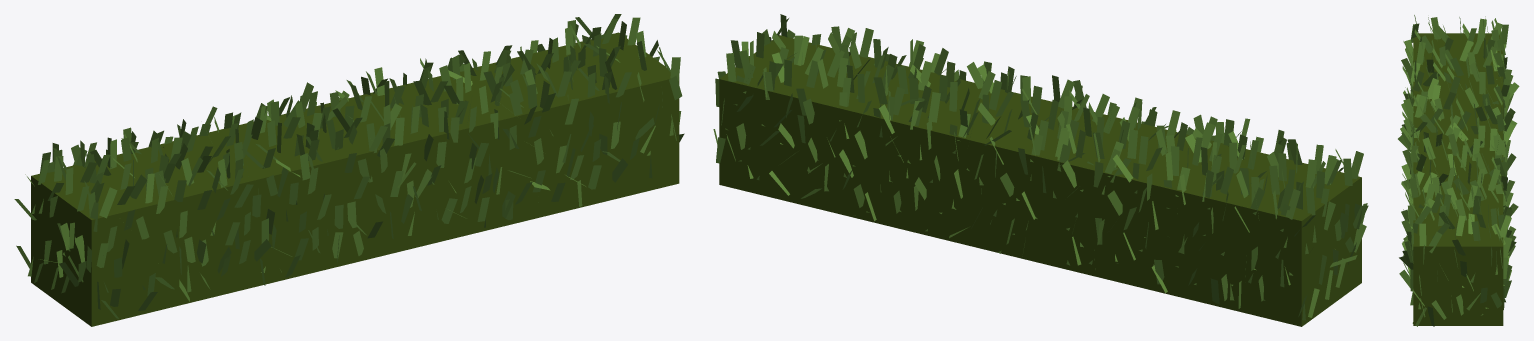
File: WallHedge3.glb
3 views of the same model, side by side, from view 1: azimuth 30°, elevation 25°; view 2: azimuth 150°, elevation 25°; view 3: azimuth 270°, elevation 25° (orthographic). The views are drawn at different scales.
Parts seen in each view (by area): view 1: WallHedge3; view 2: WallHedge3; view 3: WallHedge3.
Part boxes in pixels (x1,y1,x2,y2): WallHedge3: (14, 14, 684, 326); WallHedge3: (713, 14, 1368, 326); WallHedge3: (1398, 15, 1519, 326).
Size of the model in its own units: 4.76 by 0.9822 by 1.09.
